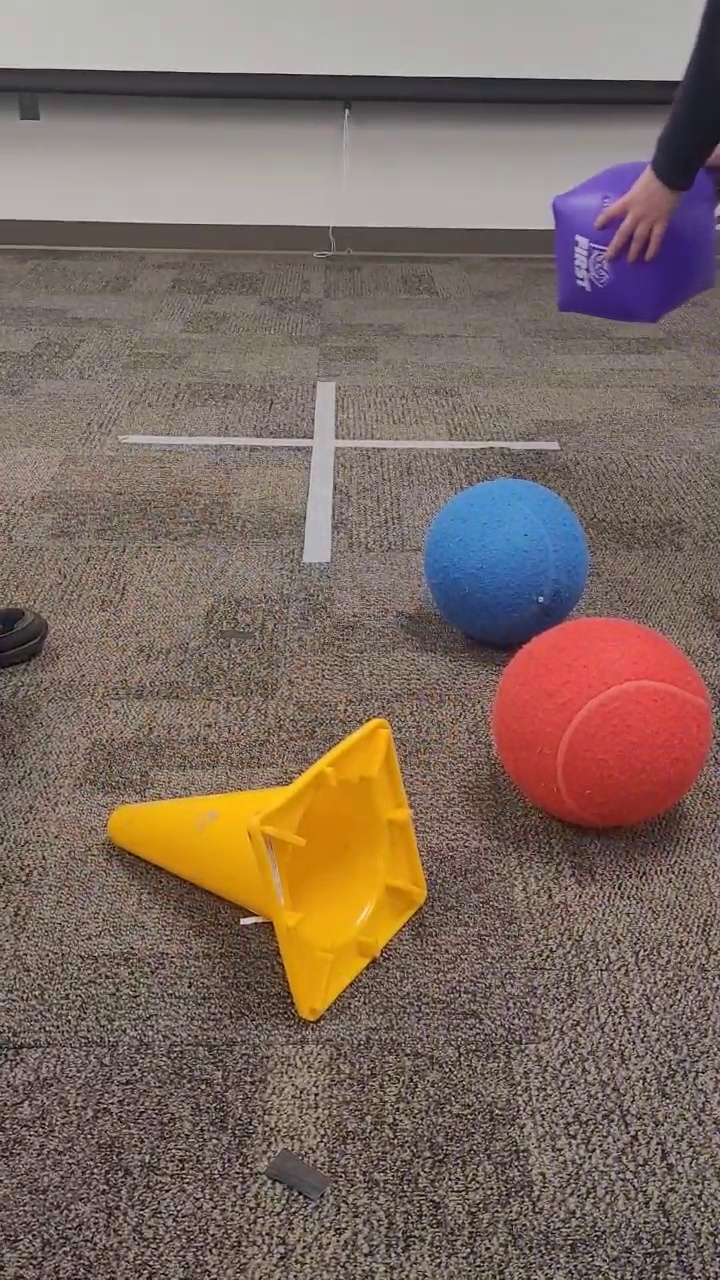ball: (488, 612, 715, 834), (421, 475, 593, 645)
cone: (102, 713, 432, 1025)
cube: (547, 154, 720, 327)
foot: (1, 598, 51, 679)
hand: (589, 1, 718, 269)
